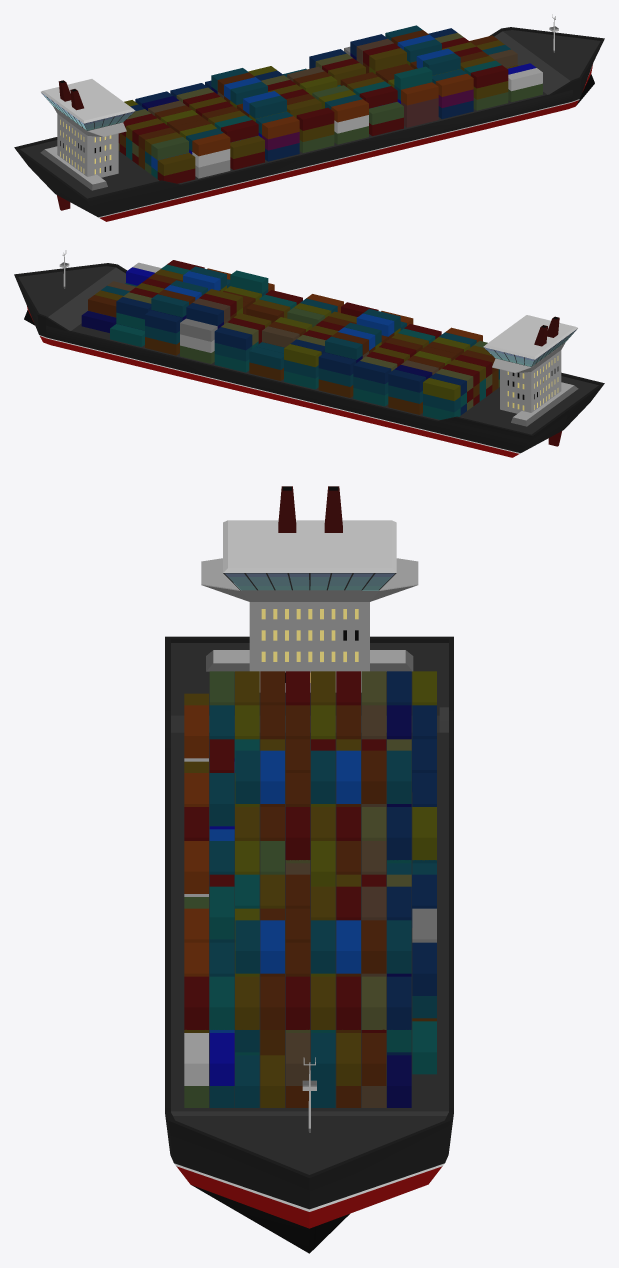
Rendered from mdl_Duc_CargoShip 1.1.glb.
3 renders of one model, top to bottom at view 1: azimuth 30°, elevation 25°; view 2: azimuth 150°, elevation 25°; view 3: azimuth 270°, elevation 25°, orthographic. The views are drawn at different scales.
Parts seen in each view (by area): view 1: Bridge Base; view 2: Bridge Base; view 3: Bridge Base.
Boxes of the visible parts, x1=… form: Bridge Base: x1=14, y1=14, x2=604, y2=221; Bridge Base: x1=14, y1=250, x2=604, y2=457; Bridge Base: x1=165, y1=486, x2=453, y2=1253.
Bounding box in the file's own units: 8.86 × 1.92 × 2.
Materials: 2 (2 with a texture image).
